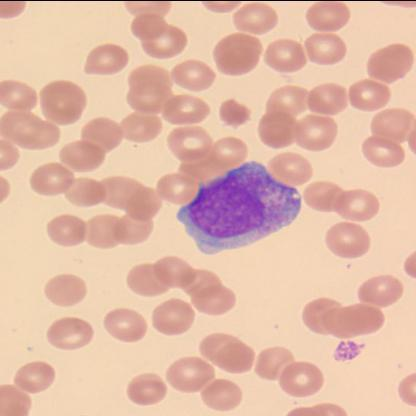Promyelocyte: (174, 161, 300, 256)
